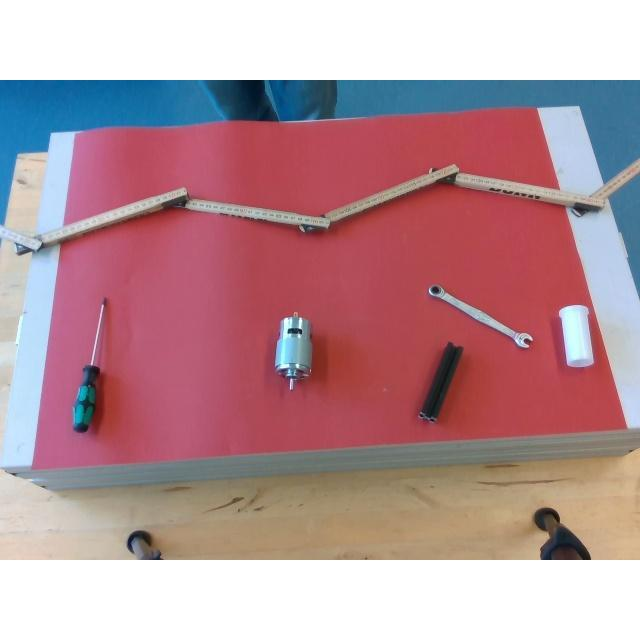F20_20_B: (422, 342, 462, 418)
Motor2: (274, 314, 310, 386)
Screwdriver: (68, 296, 108, 432)
Spacer: (557, 303, 595, 369)
Wrench: (426, 285, 530, 347)
